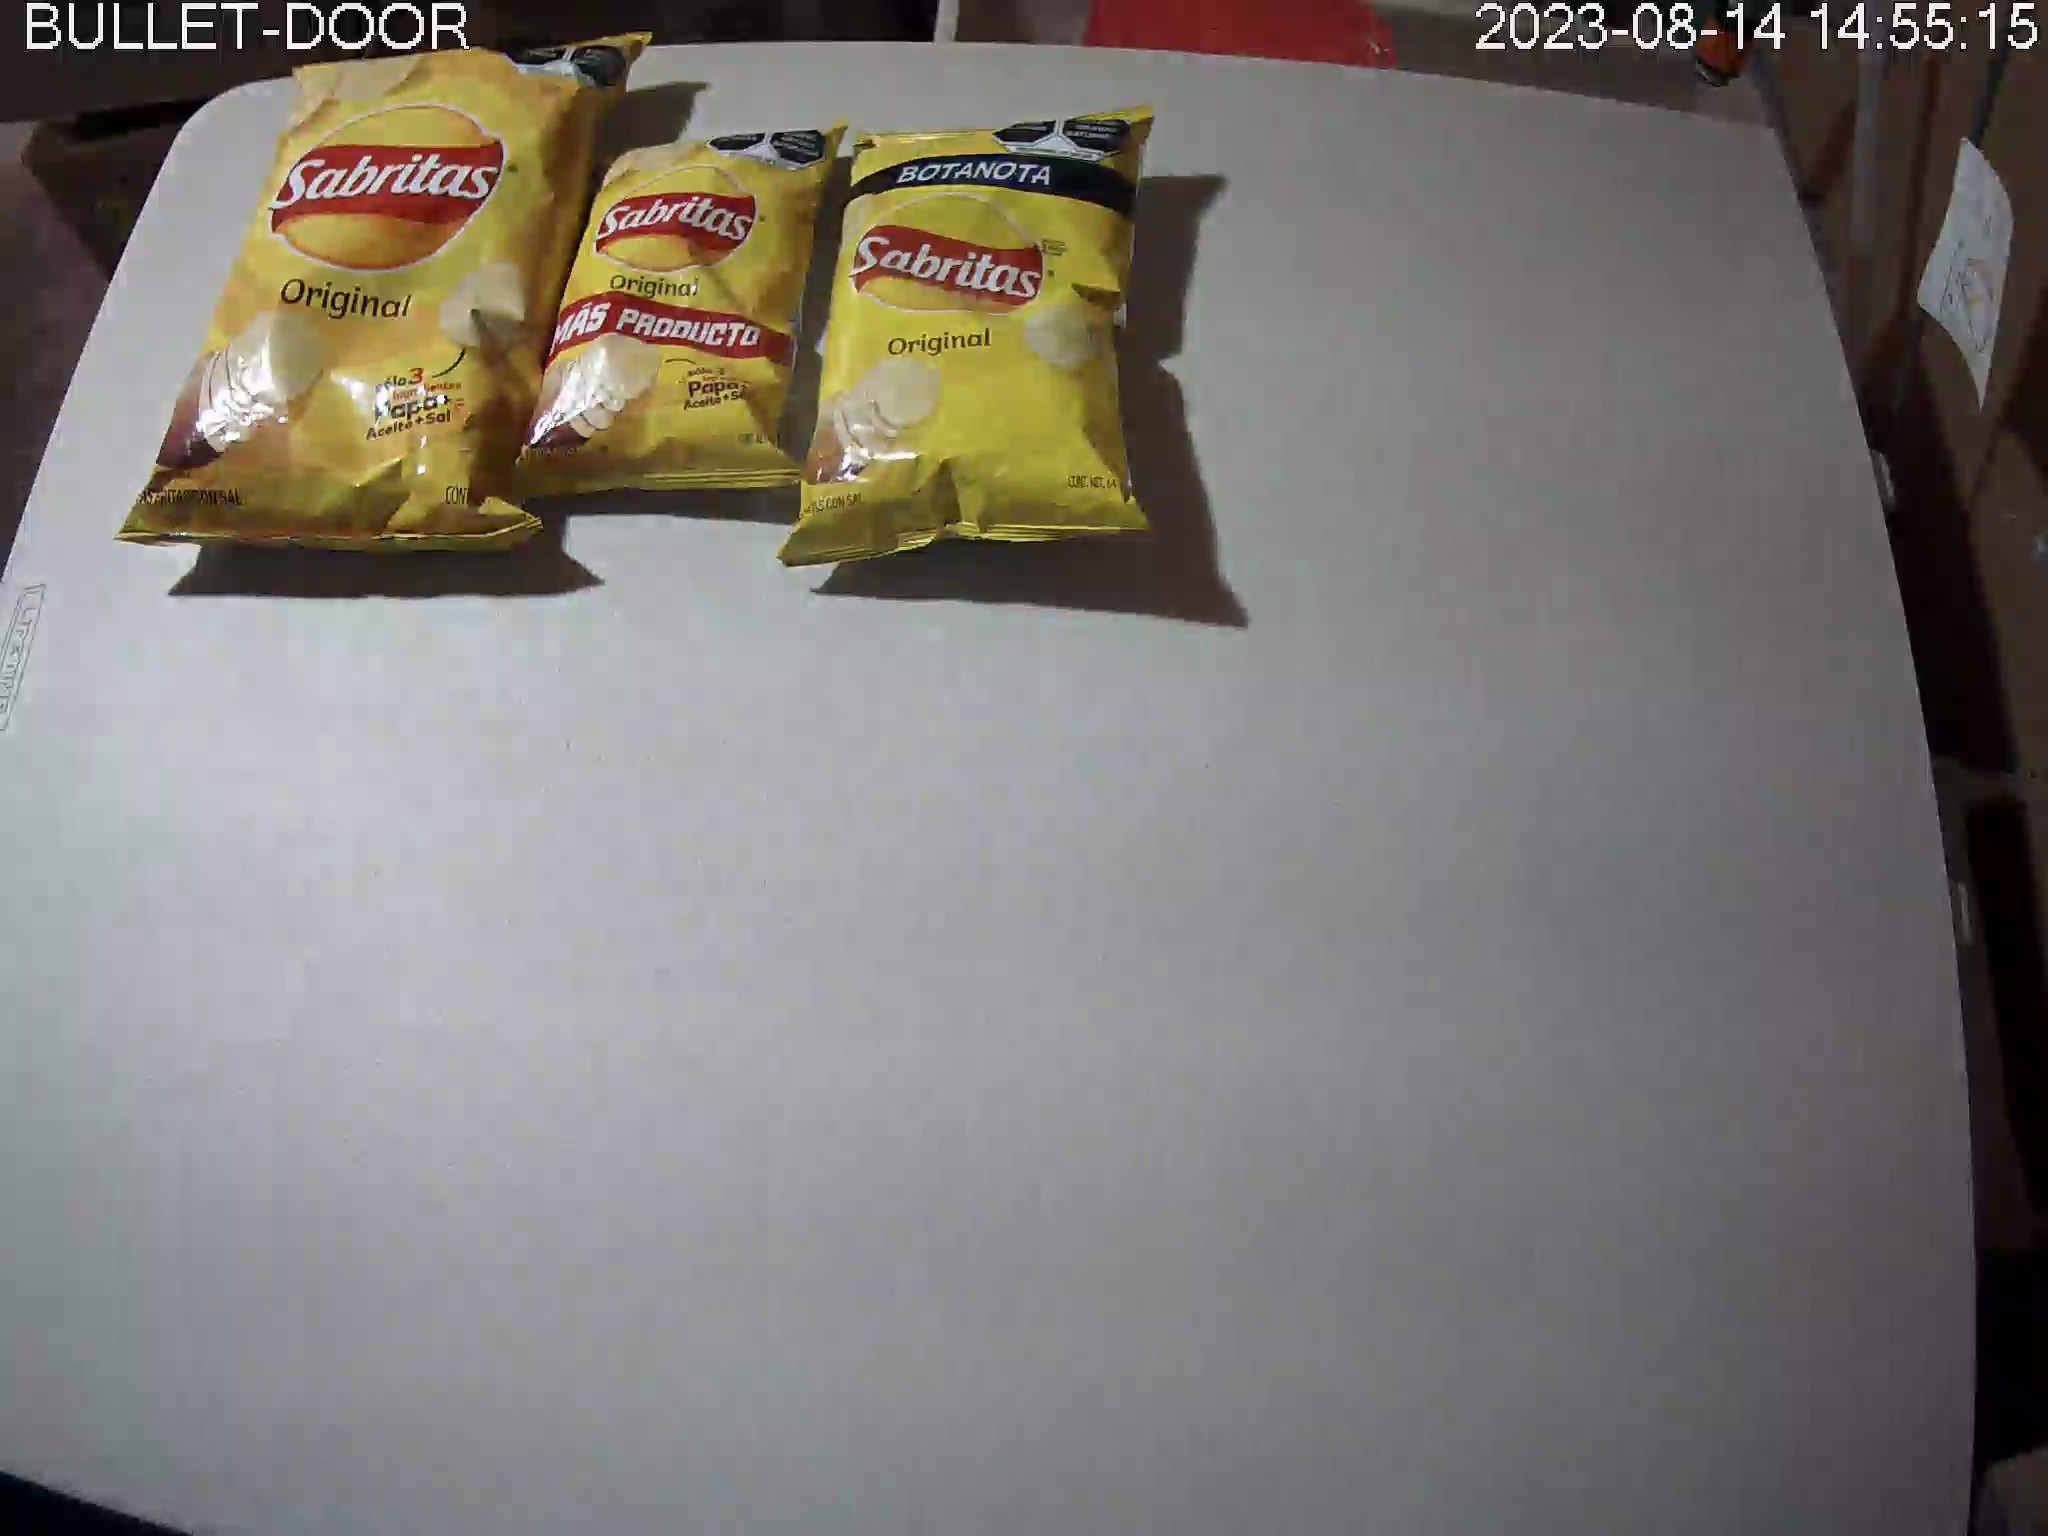Sabritas_160_F: (116, 24, 648, 553)
Sabritas_45_F: (510, 118, 851, 500)
Sabritas_64_F: (779, 103, 1156, 570)
